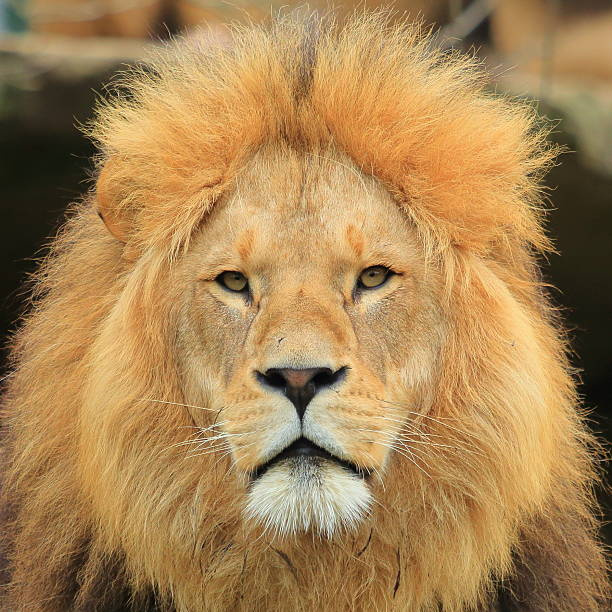lion: (14, 12, 608, 612)
